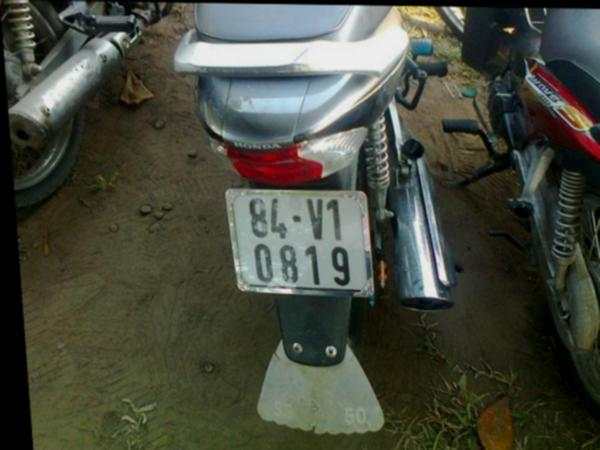License_Plate: (229, 190, 372, 291)
